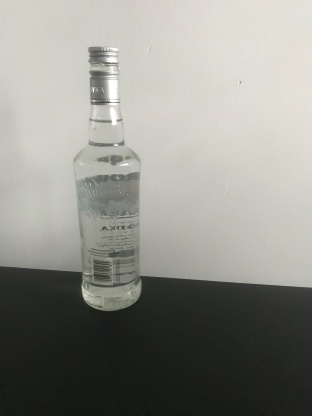nakretka: (87, 45, 121, 106)
